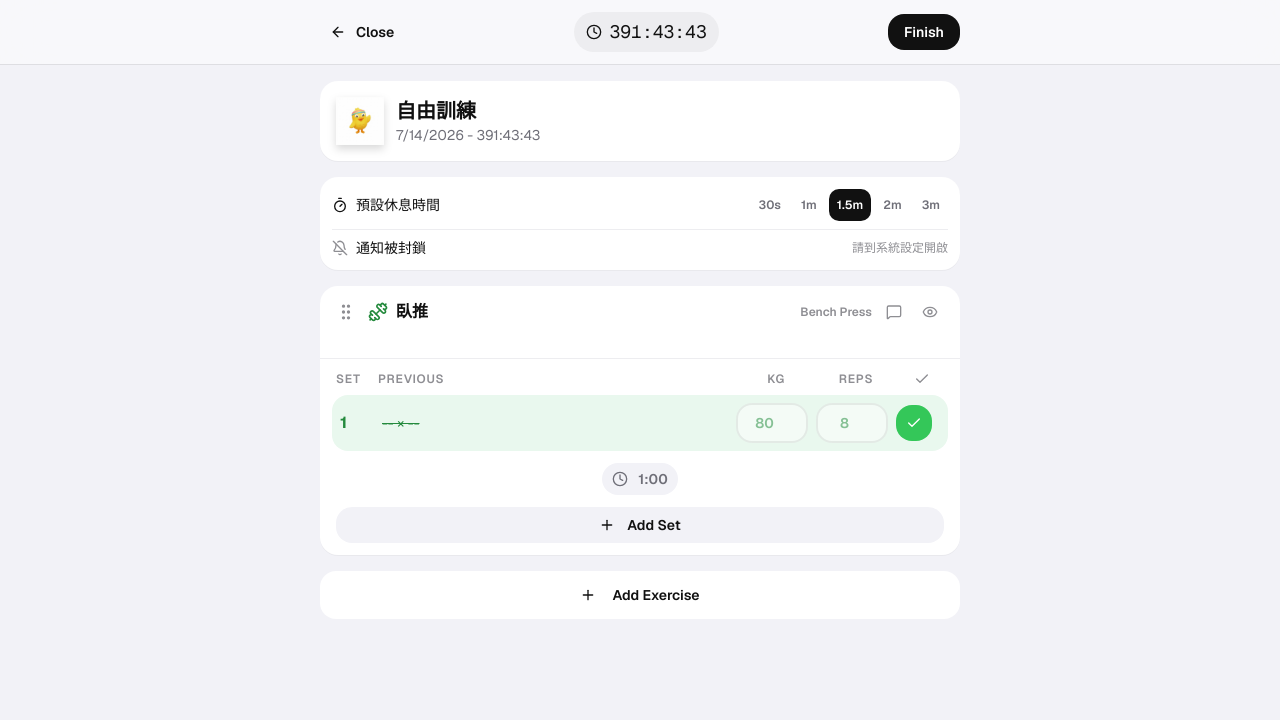
Test: workout finish flow › discards the active workout and clears local recovery data
Click the button "Close" at (362, 32), box [320, 16, 404, 48]
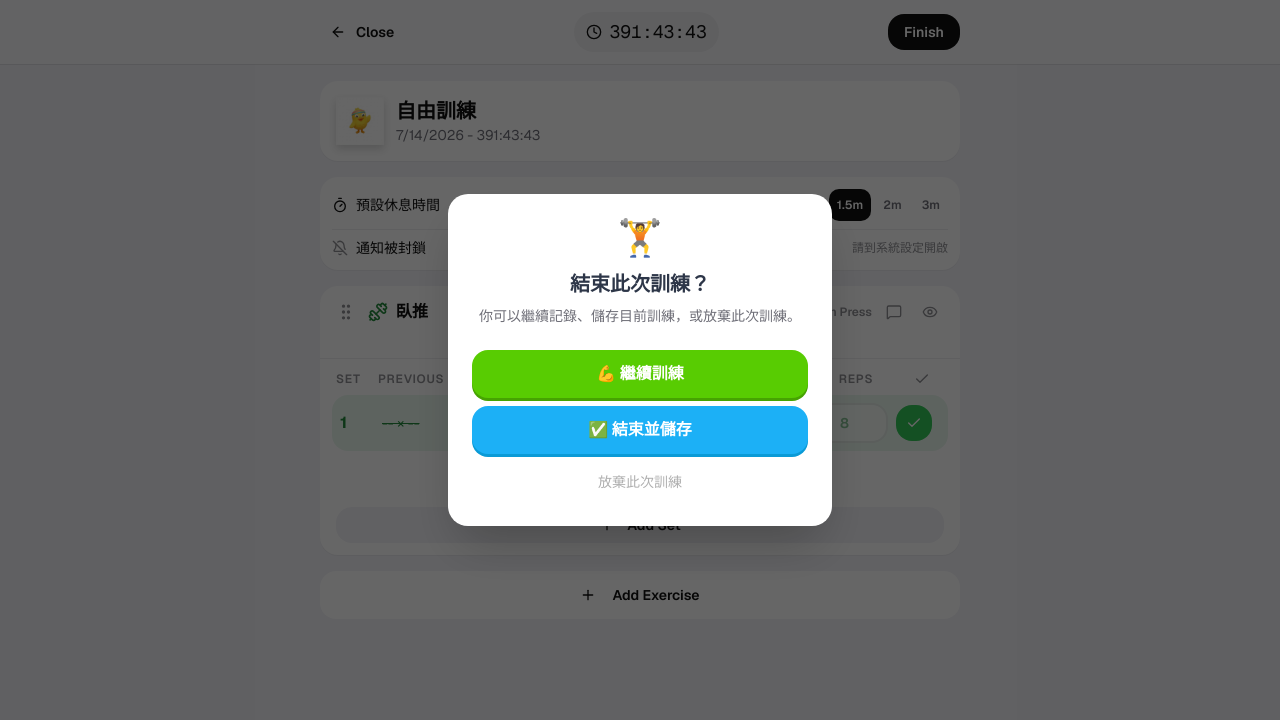
Click the button "放棄此次訓練" at (640, 482), box [472, 462, 808, 502]
(page scrolled)
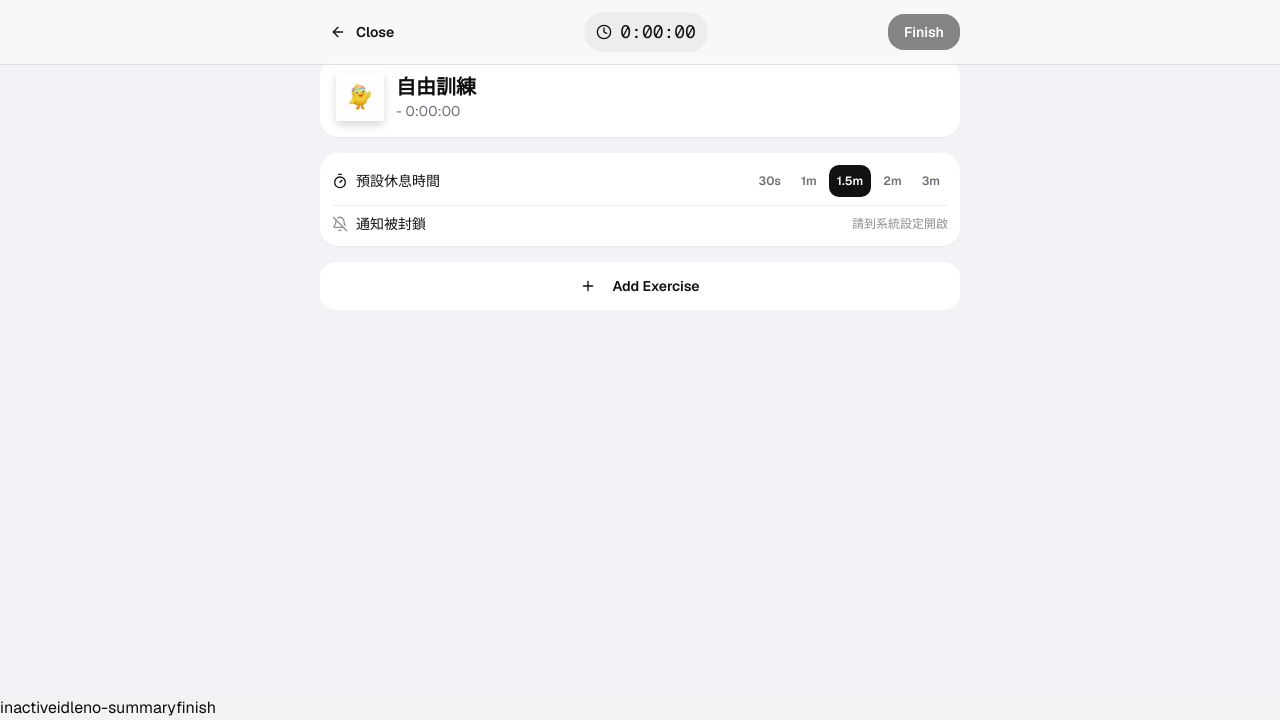
Result: the text "inactive" is shown at [0, 697, 57, 718]
Result: the heading "結束此次訓練？" is gone
